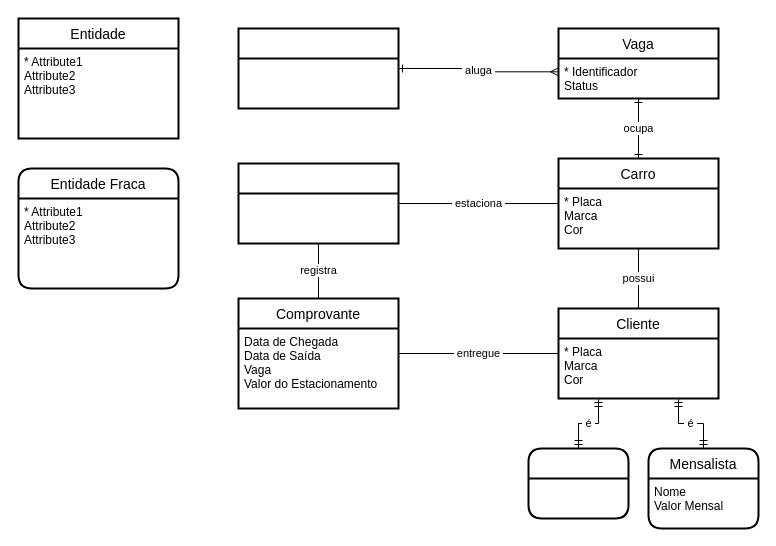
Image size: 776x546. Some labels were removed from this diagram. Each missing label, with the centre of its shape:
Avulso: the point at 578,483
Estacionamento: the point at 318,68
Manobrista: the point at 318,203
